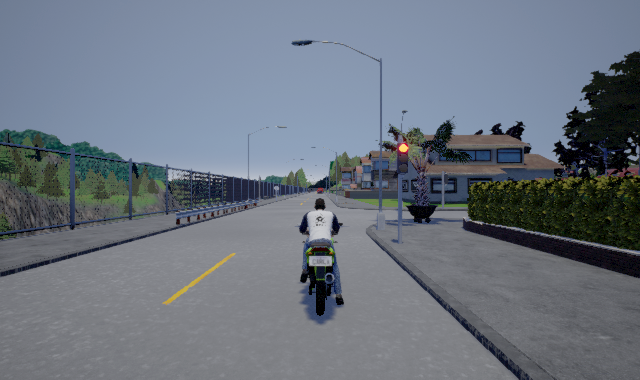motobike: (295, 197, 345, 322)
traffic_light: (397, 138, 408, 179)
